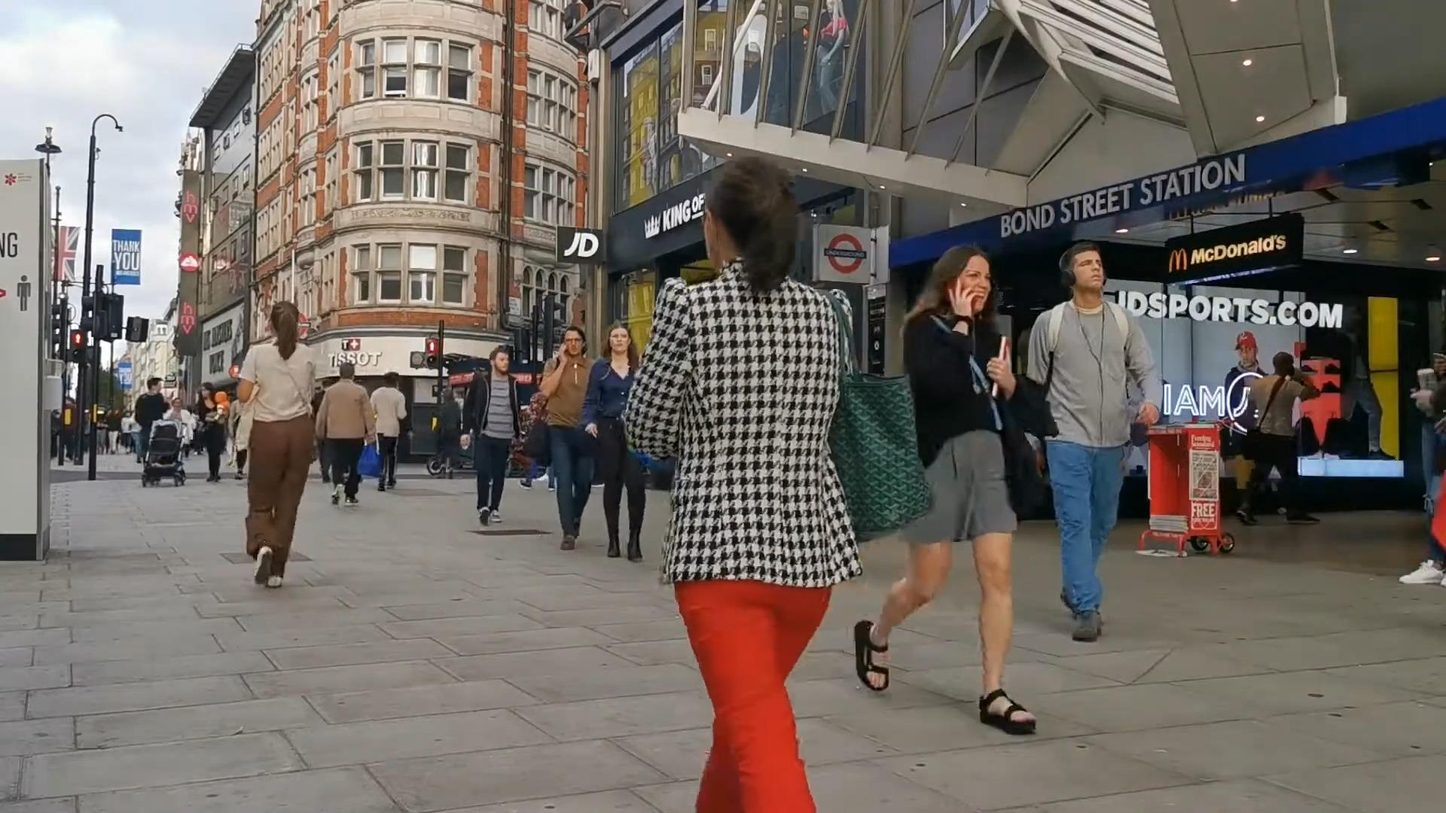no-helmet: (703, 157, 798, 301), (930, 244, 992, 320), (1060, 240, 1107, 298), (270, 301, 299, 360), (604, 320, 634, 357), (560, 326, 588, 358), (490, 348, 509, 376), (383, 371, 400, 391), (147, 377, 164, 394), (340, 362, 355, 381), (201, 381, 214, 400)
